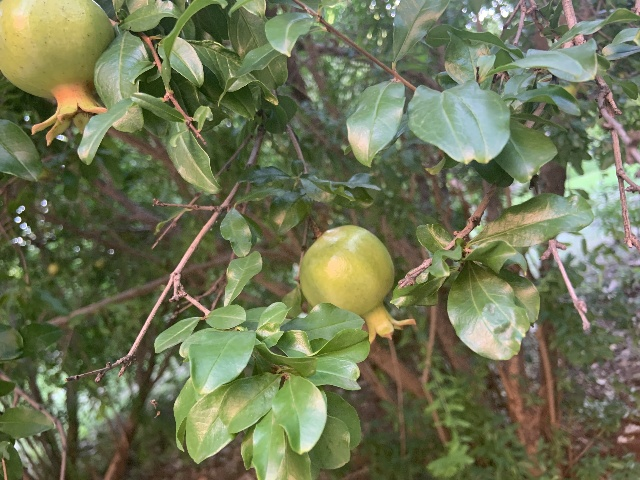mid-growth: (0, 0, 115, 146), (299, 225, 416, 344)
